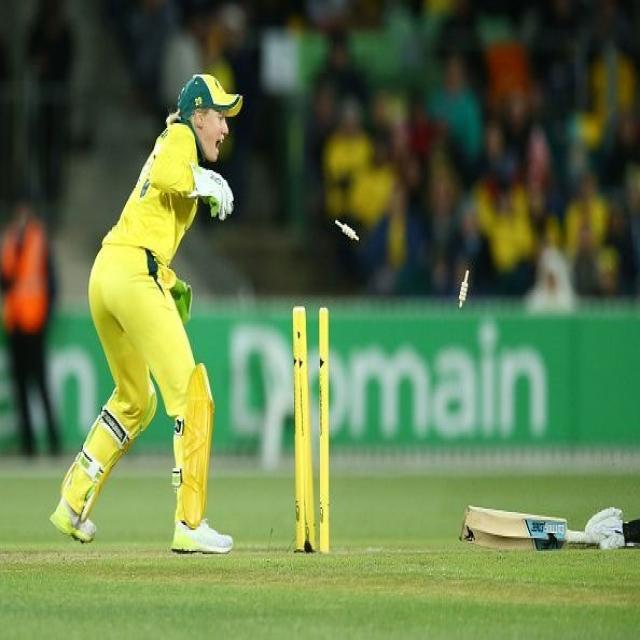stump: (288, 303, 316, 552), (316, 304, 330, 551)
